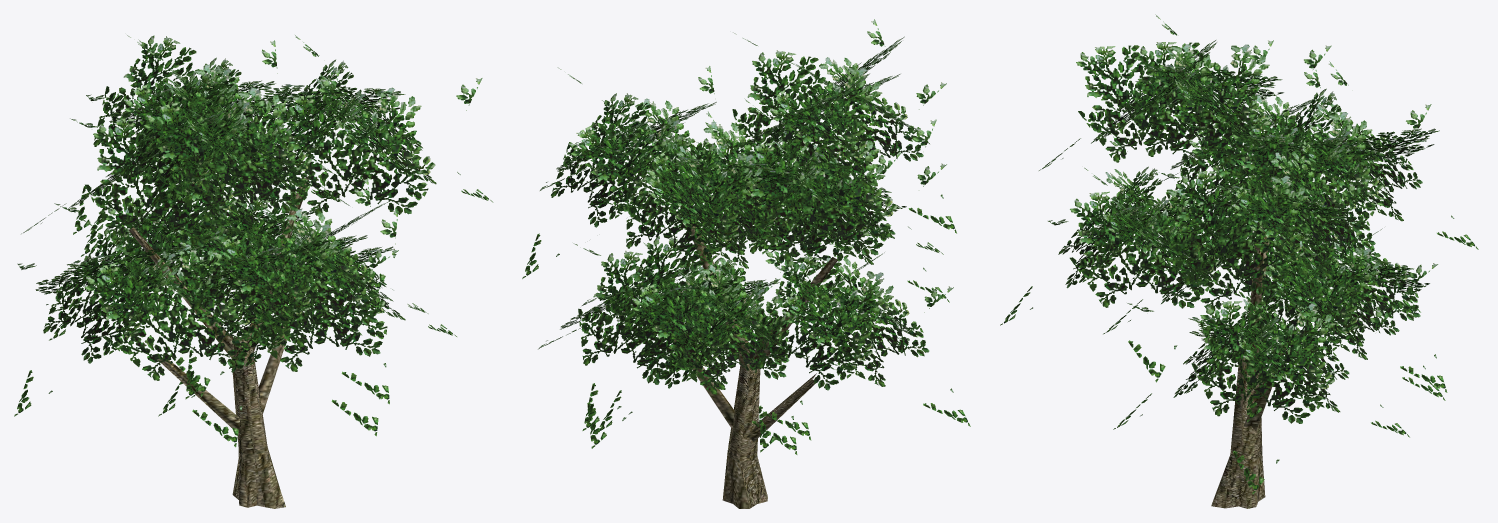
File: oak_large_1.glb
3 renders of one model, left to right at view 1: azimuth 30°, elevation 25°; view 2: azimuth 150°, elevation 25°; view 3: azimuth 270°, elevation 25°, orthographic. The views are drawn at different scales.
Parts seen in each view (by area): view 1: oak_large_1; view 2: oak_large_1; view 3: oak_large_1.
Part boxes in pixels (x1,y1,x2,y2): oak_large_1: (14, 35, 493, 508); oak_large_1: (522, 19, 970, 508); oak_large_1: (1000, 14, 1478, 508).
Size of the model in its own units: 9.45 by 8.67 by 9.03.
2 materials, 2 textured.
